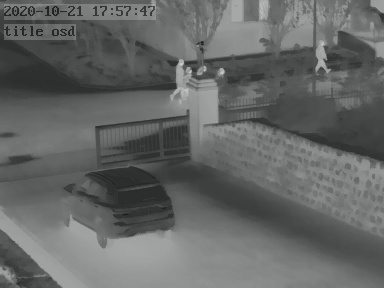person: (171, 59, 188, 103), (314, 38, 329, 73)
vehicle: (58, 164, 174, 246)
